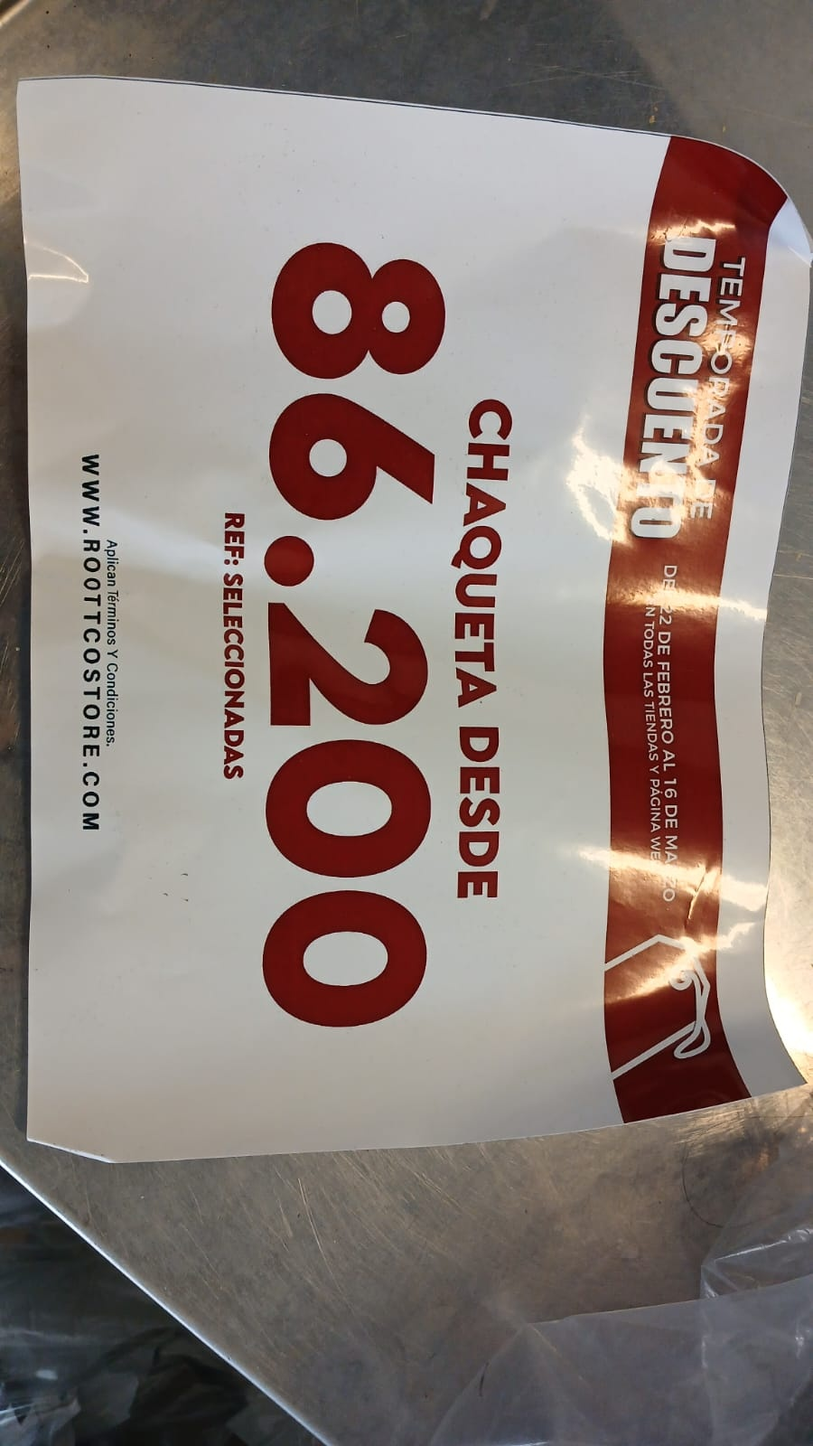Ordinario: (18, 75, 813, 1168)
